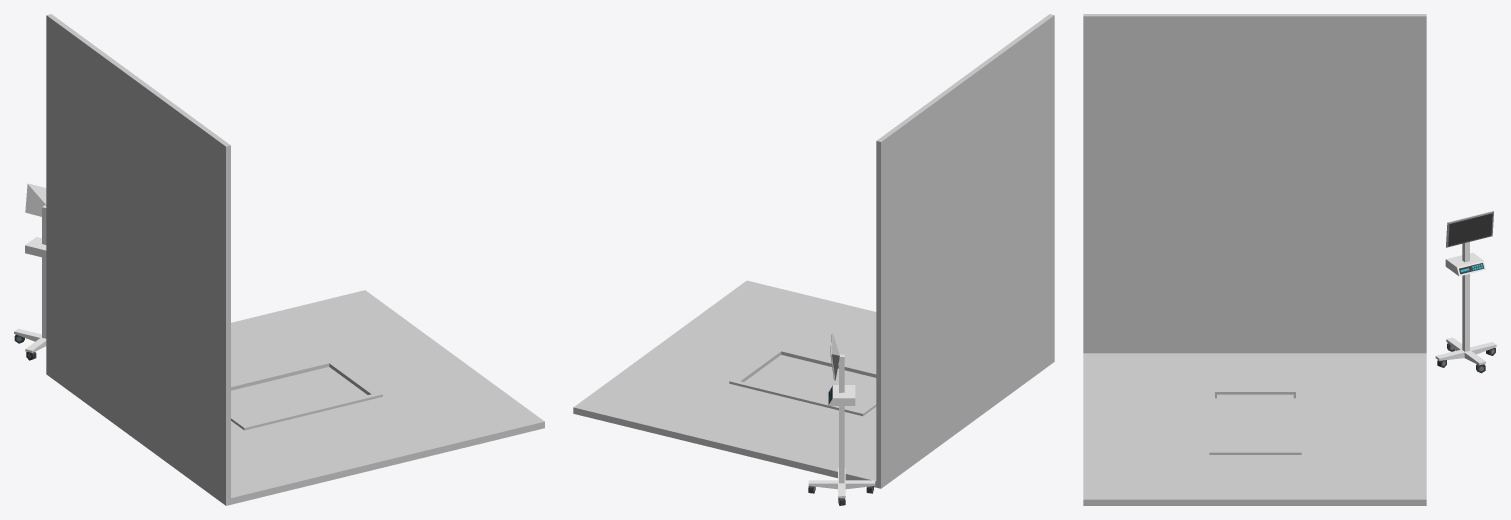
Rendered from white.glb.
The picture shows the model from 3 angles, left to right: view 1: azimuth 30°, elevation 25°; view 2: azimuth 150°, elevation 25°; view 3: azimuth 270°, elevation 25°; orthographic projection. The views are drawn at different scales.
Visible parts, largest first — view 1: 物件_5, 物件_6, 物件_4, 物件_1, 图层 03; view 2: 物件_5, 物件_6, 物件_4, 图层 03, 物件_1; view 3: 物件_5, 物件_6, 物件_4, 图层 03, 物件_1.
Part boxes in pixels (x1,y1,x2,y2): 物件_5: [46, 14, 230, 505]; 物件_6: [46, 290, 544, 505]; 物件_4: [231, 367, 367, 423]; 物件_1: [231, 359, 382, 430]; 图层 03: [14, 183, 46, 360]; 物件_5: [876, 14, 1054, 488]; 物件_6: [573, 280, 1054, 488]; 物件_4: [744, 355, 876, 409]; 图层 03: [808, 332, 875, 505]; 物件_1: [729, 347, 876, 416]; 物件_5: [1083, 14, 1426, 353]; 物件_6: [1083, 353, 1426, 505]; 物件_4: [1217, 394, 1293, 448]; 图层 03: [1435, 211, 1496, 373]; 物件_1: [1209, 388, 1301, 454].
Size of the model in its own units: 0.676 by 0.7112 by 0.7758.
Materials: 2 (1 with a texture image).
